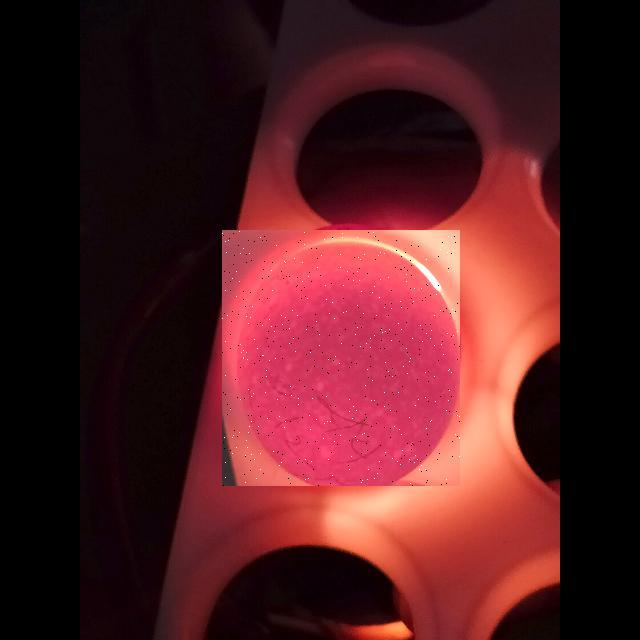Infertile: (222, 230, 460, 486)
